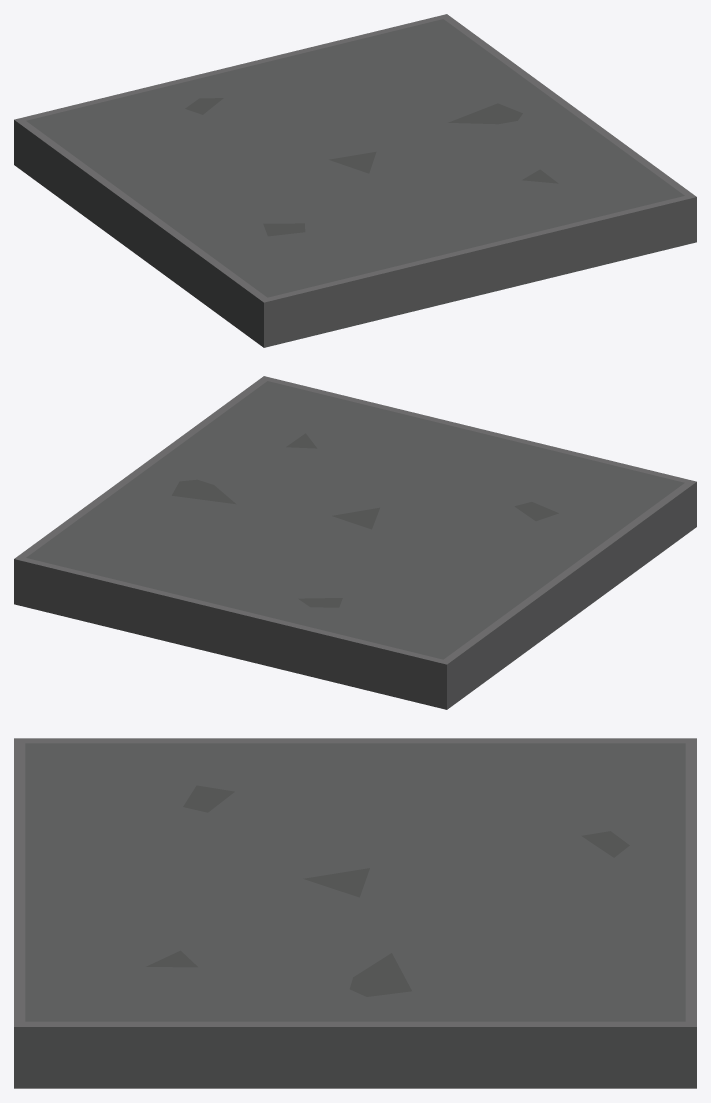
File: ConcrateSlabs_B_2_2.obj
3 views of the same model, one above another, from view 1: azimuth 30°, elevation 25°; view 2: azimuth 150°, elevation 25°; view 3: azimuth 270°, elevation 25° (orthographic). The views are drawn at different scales.
Visible parts, largest first — view 1: ConcrateSlabs_B_2_2; view 2: ConcrateSlabs_B_2_2; view 3: ConcrateSlabs_B_2_2.
Boxes of the visible parts, x1,y1,x2,y2 form: ConcrateSlabs_B_2_2: (14, 14, 696, 347); ConcrateSlabs_B_2_2: (14, 376, 696, 709); ConcrateSlabs_B_2_2: (14, 738, 696, 1088).
Bounding box in the file's own units: 4 × 0.4 × 4.
